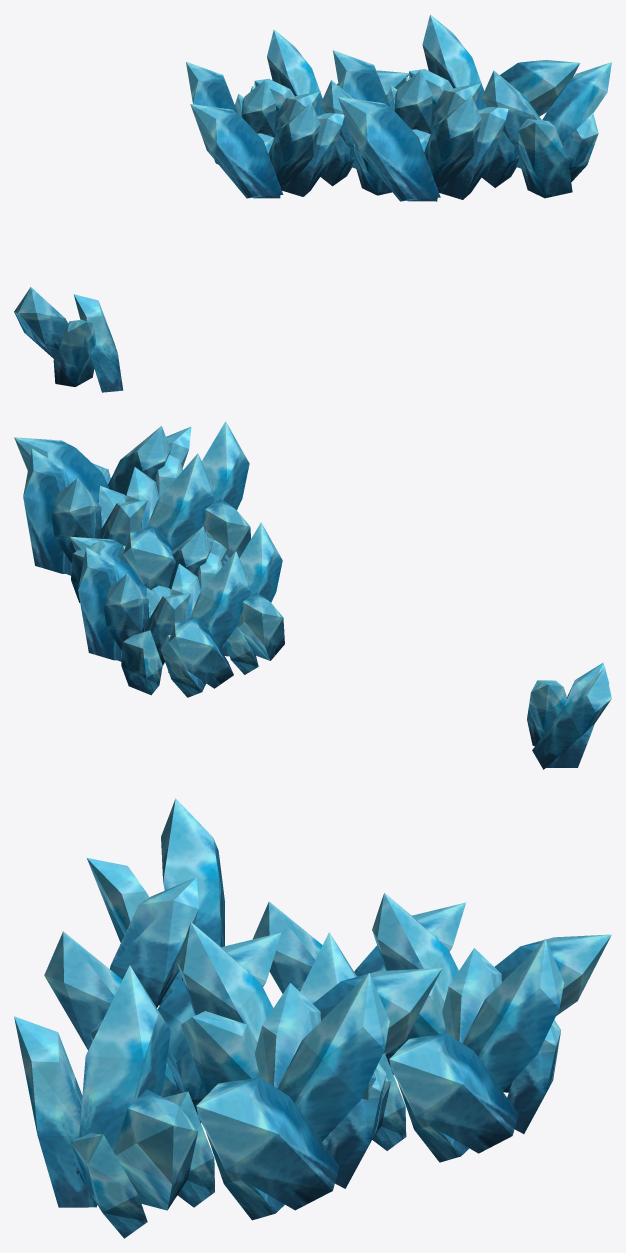
The model's file is gems.fbx.
3 renders of one model, top to bottom at view 1: azimuth 30°, elevation 25°; view 2: azimuth 150°, elevation 25°; view 3: azimuth 270°, elevation 25°, orthographic. The views are drawn at different scales.
Visible parts, largest first — view 1: obj0.053; view 2: obj0.053; view 3: obj0.053.
Boxes of the visible parts, <box> form: obj0.053: <box>14,14,611,392</box>; obj0.053: <box>14,421,611,769</box>; obj0.053: <box>14,798,611,1238</box>.
Bounding box in the file's own units: 4.83 × 1.74 × 2.59.
